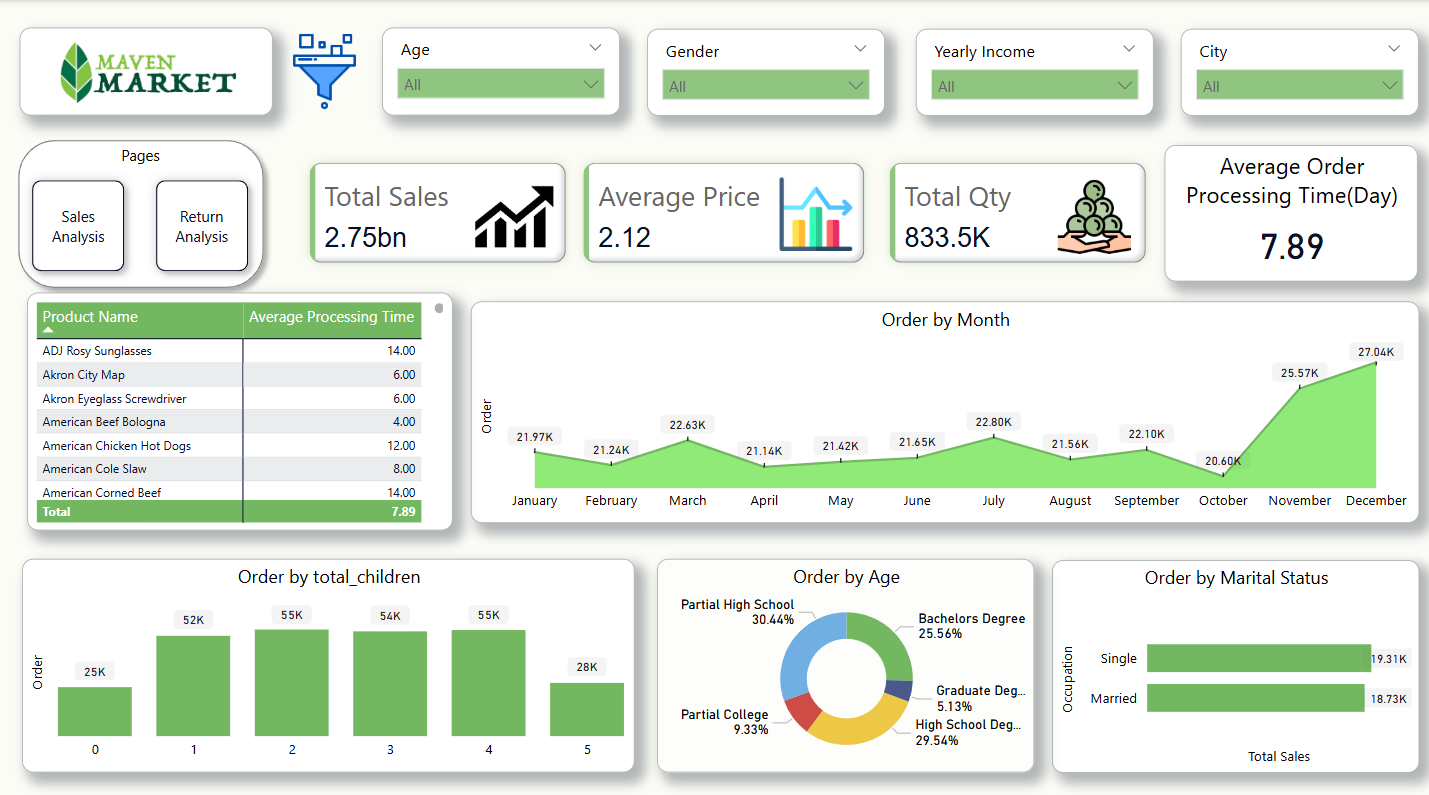

The dashboard page shown, as its layout file describes it:
{"tool":"powerbi","page":{"name":"Order Analysis","canvas":[1280,720],"ordinal":1},"visuals":[{"type":"areaChart","title":"Order by Month","fields":{"Category":["MavenMarket_Calendar.date.Variation.Date Hierarchy.Month"],"Y":["MavenMarket_Transactions_1997.Order"]},"box":[422.3,267.8,844.5,197.9],"z":0},{"type":"columnChart","fields":{"Category":["MavenMarket_Customers.total_children"],"Y":["MavenMarket_Transactions_1997.Order"]},"box":[22.3,497.6,545.5,190.4],"z":1000},{"type":"barChart","title":"Order by Marital Status","fields":{"Category":["MavenMarket_Customers.marital_status"],"Y":["MavenMarket_Transactions_1997.Order"]},"box":[939.5,498.7,327.3,189.2],"z":2000},{"type":"donutChart","title":"Order by Age ","fields":{"Y":["CountNonNull(MavenMarket_Transactions_1998.product_id)"],"Series":["MavenMarket_Customers.education"]},"box":[587.8,497.6,336.2,190.4],"z":3000},{"type":"card","title":"Average Order Processing Time(Day)","fields":{"Values":["MavenMarket_Transactions_1997.Average Processing Time"]},"box":[1040,129.1,225.6,121.9],"z":4000},{"type":"image","box":[20.5,24.1,225.6,78.4],"z":5000},{"type":"image","box":[214.7,24.1,153.2,78.4],"z":6000},{"type":"slicer","fields":{"Values":["MavenMarket_Customers.Age"]},"box":[342.6,24.1,212.3,78.4],"z":7000},{"type":"slicer","fields":{"Values":["MavenMarket_Customers.gender"]},"box":[579.1,25.3,212.3,77.2],"z":8000},{"type":"slicer","fields":{"Values":["MavenMarket_Customers.customer_city"]},"box":[1054.4,25.3,212.3,77.2],"z":9000},{"type":"slicer","fields":{"Values":["MavenMarket_Customers.yearly_income"]},"box":[818,25.3,212.3,77.2],"z":10000},{"type":"cardVisual","fields":{"Data":["MavenMarket_Products.Total Sales"]},"box":[263,129.1,260.6,121.9],"z":11000},{"type":"cardVisual","fields":{"Data":["MavenMarket_Transactions_1997.Total Qty"]},"box":[779.4,129.1,260.6,121.9],"z":12000},{"type":"cardVisual","fields":{"Data":["Avg(MavenMarket_Products.product_retail_price)"]},"box":[506.7,129.1,282.3,121.9],"z":13000},{"type":"shape","box":[9.7,115.8,236.5,149.6],"z":14000},{"type":"pivotTable","fields":{"Rows":["MavenMarket_Products.product_name"],"Values":["MavenMarket_Transactions_1997.Average Processing Time"]},"box":[26.5,260.6,378.8,212.3],"z":15000},{"type":"pageNavigator","title":"Pages","box":[21.7,129.1,211.1,121.9],"z":16000}]}

Visuals, with their boxes in screenshot pixels (x1, y1, x2, y2), scaled from the page's 1280x720 canvas onto the 1429x795 screenshot:
"Order by Month" areaChart: l=471, t=296, r=1414, b=514
columnChart - MavenMarket_Customers.total_children x MavenMarket_Transactions_1997.Order: l=25, t=549, r=634, b=760
"Order by Marital Status" barChart: l=1049, t=551, r=1414, b=760
"Order by Age " donutChart: l=656, t=549, r=1032, b=760
"Average Order Processing Time(Day)" card: l=1161, t=143, r=1413, b=277
image: l=23, t=27, r=275, b=113
image: l=240, t=27, r=411, b=113
slicer - MavenMarket_Customers.Age: l=382, t=27, r=619, b=113
slicer - MavenMarket_Customers.gender: l=647, t=28, r=884, b=113
slicer - MavenMarket_Customers.customer_city: l=1177, t=28, r=1414, b=113
slicer - MavenMarket_Customers.yearly_income: l=913, t=28, r=1150, b=113
cardVisual - MavenMarket_Products.Total Sales: l=294, t=143, r=585, b=277
cardVisual - MavenMarket_Transactions_1997.Total Qty: l=870, t=143, r=1161, b=277
cardVisual - Avg(MavenMarket_Products.product_retail_price): l=566, t=143, r=881, b=277
shape: l=11, t=128, r=275, b=293
pivotTable - MavenMarket_Products.product_name x MavenMarket_Transactions_1997.Average Processing Time: l=30, t=288, r=452, b=522
"Pages" pageNavigator: l=24, t=143, r=260, b=277
